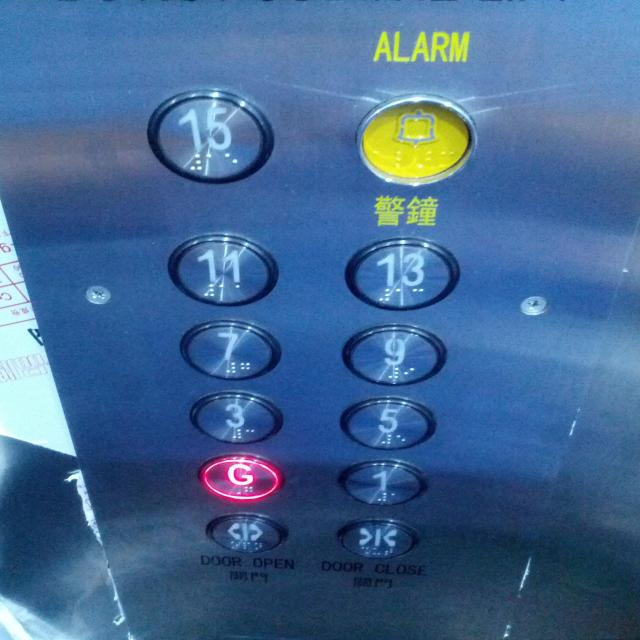1: (336, 458, 427, 507)
11: (166, 229, 279, 311)
13: (344, 234, 461, 312)
15: (146, 86, 276, 188)
3: (187, 388, 285, 448)
5: (336, 394, 437, 452)
7: (178, 318, 280, 383)
9: (338, 322, 447, 386)
G: (196, 450, 286, 504)
alarm: (354, 90, 480, 192)
close: (334, 516, 422, 561)
open: (204, 509, 290, 556)
